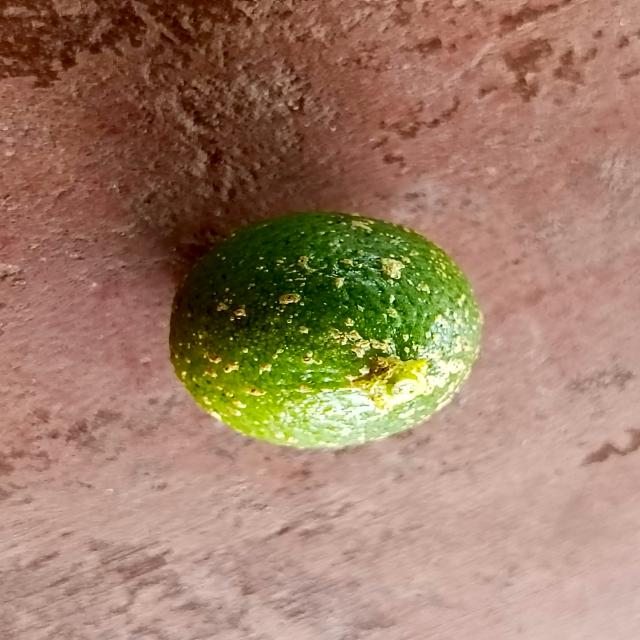scab: (158, 200, 488, 468)
